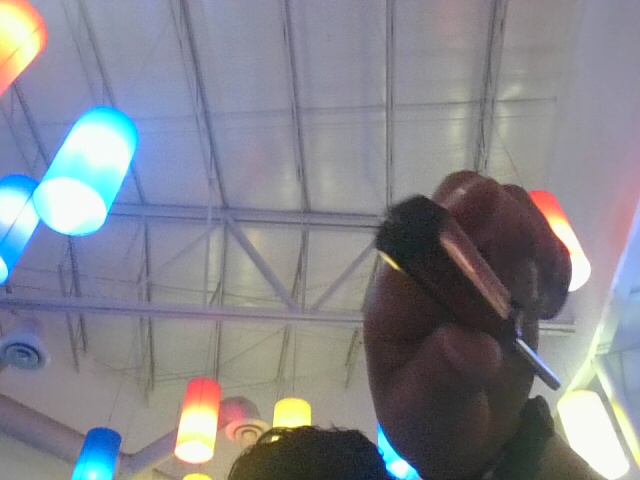destornillador: (374, 203, 564, 390)
